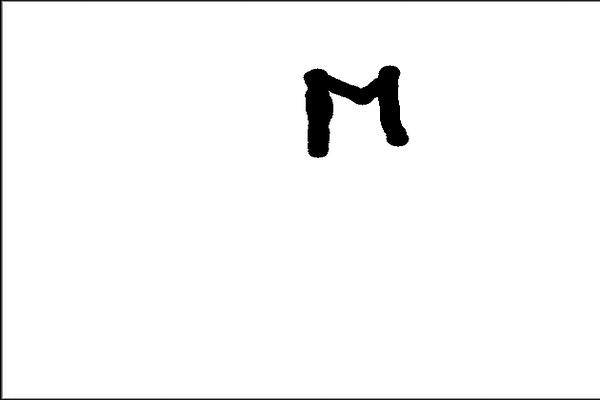M: (297, 65, 414, 161)
